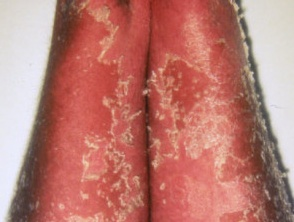SJS-TEN: (132, 0, 294, 222), (1, 0, 145, 220)
